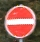No entry: (5, 5, 35, 37)
